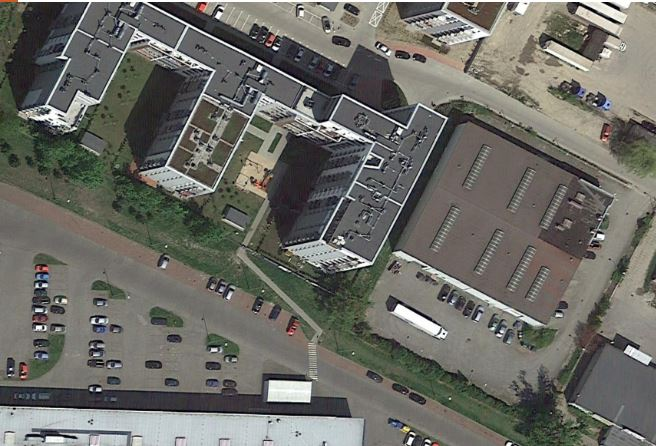block of flats: (9, 3, 454, 284)
shopping_center: (388, 107, 623, 336), (1, 400, 391, 445), (555, 323, 653, 446)
